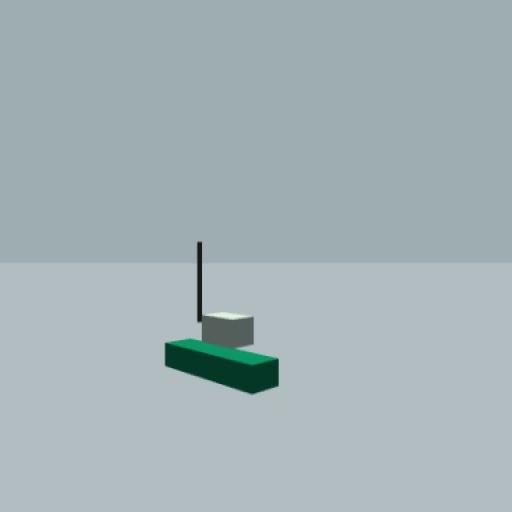fishing_boat: (165, 242, 281, 398)
